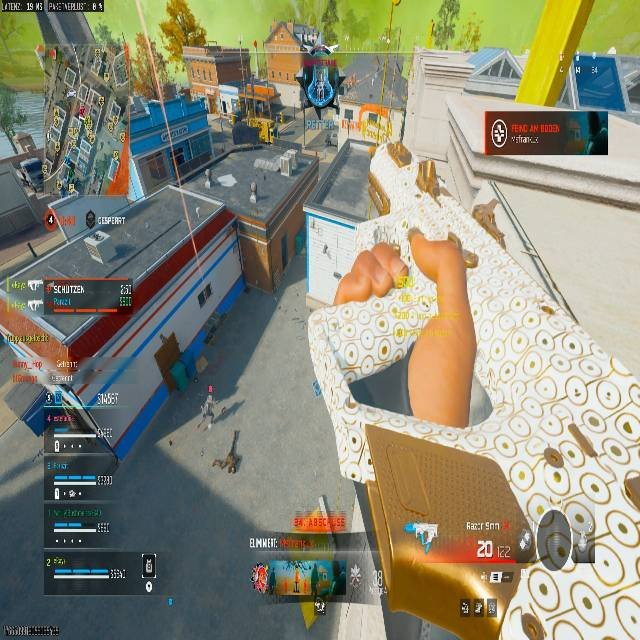player: (294, 29, 344, 115), (323, 131, 333, 147)
